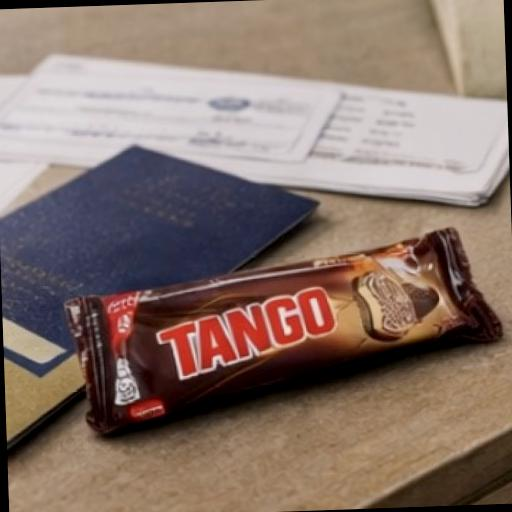tango: (22, 226, 512, 477)
